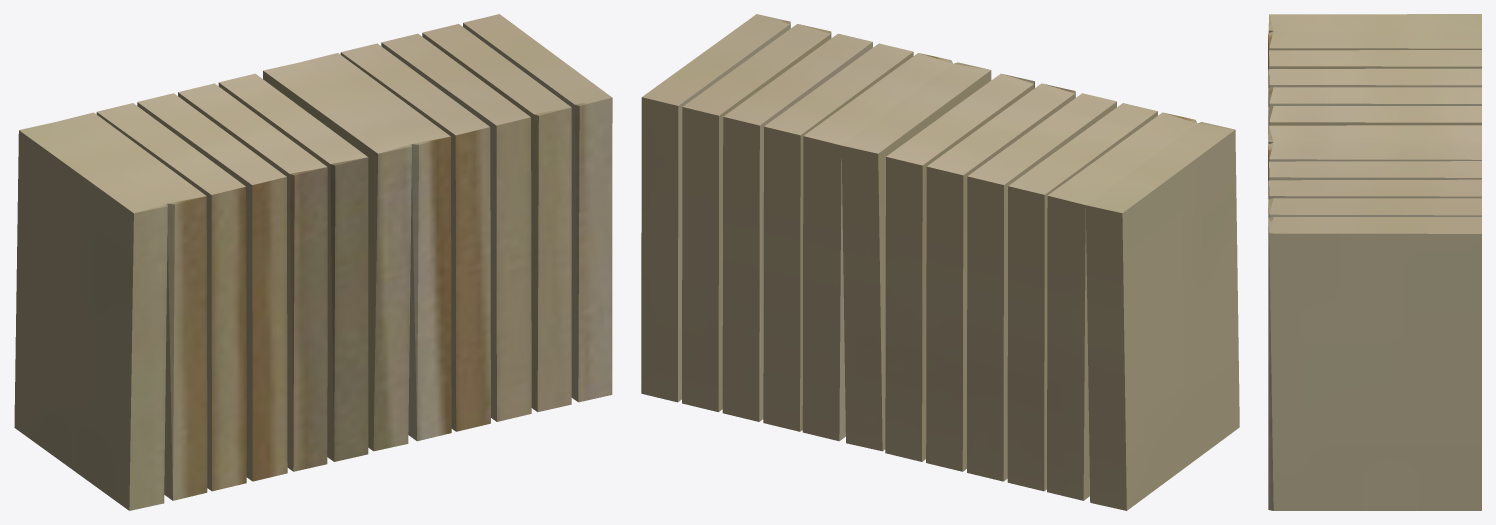
Rendered from book1_v6.dae.
3 views of the same model, side by side, from view 1: azimuth 30°, elevation 25°; view 2: azimuth 150°, elevation 25°; view 3: azimuth 270°, elevation 25° (orthographic). The views are drawn at different scales.
Visible parts, largest first — view 1: node; view 2: node; view 3: node.
Boxes of the visible parts, x1,y1,x2,y2 form: node: (14,14,612,510); node: (641,14,1239,510); node: (1268,14,1481,510).
Bounding box in the file's own units: 0.2943 × 0.1725 × 0.1203.
Materials: 1 (1 with a texture image).
